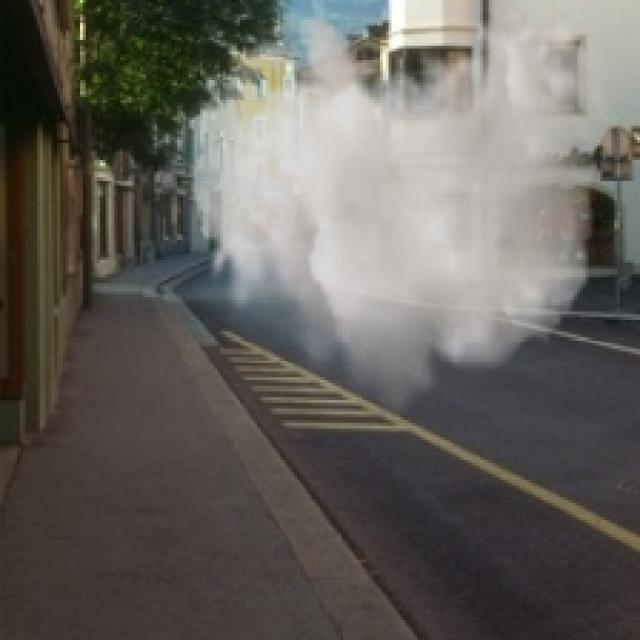Smoke: (192, 3, 612, 426)
